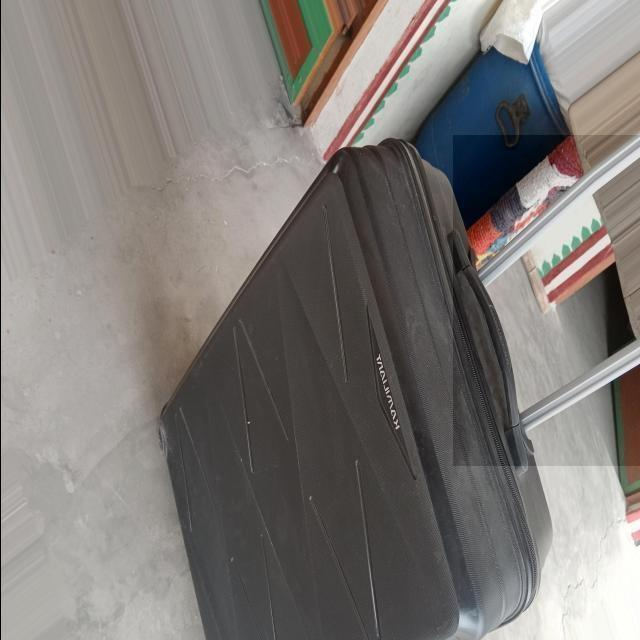Suitcase: (147, 130, 640, 639)
